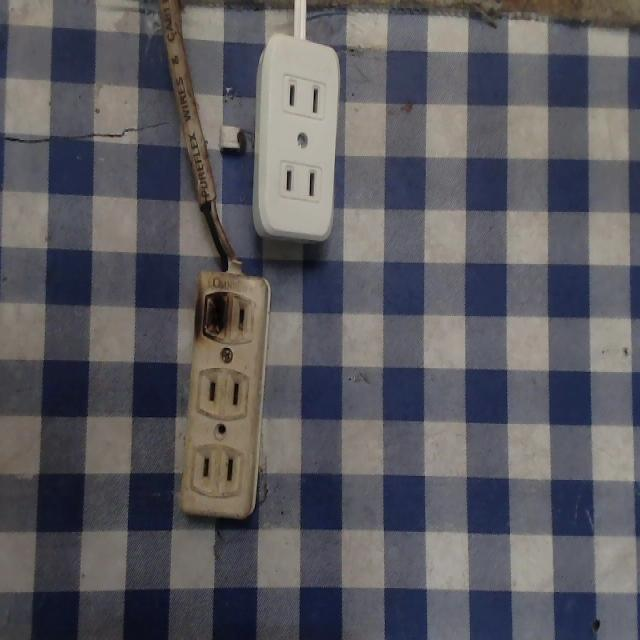-: (194, 283, 233, 348)
